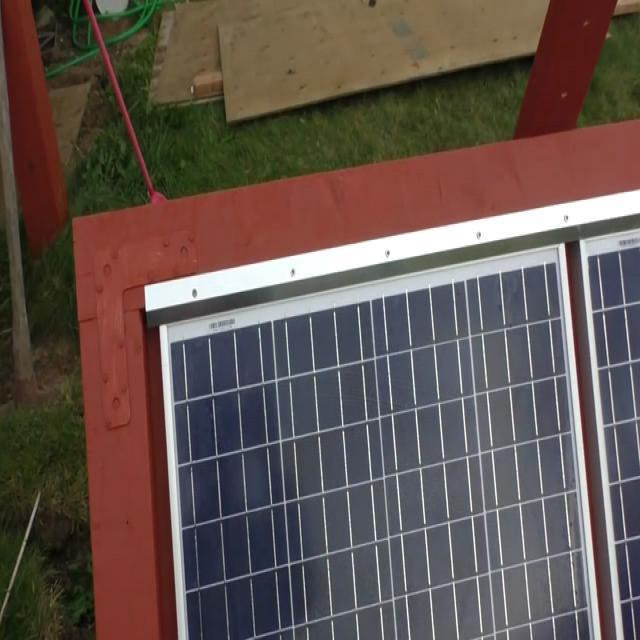Normal Solar Panel: (160, 216, 640, 640)
